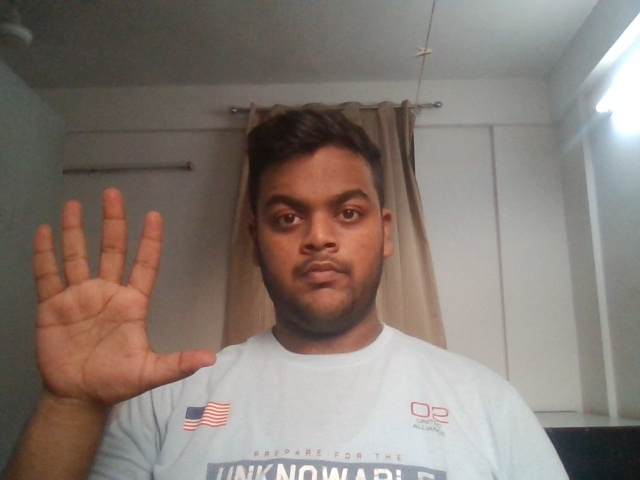Hello: (13, 174, 231, 428)
